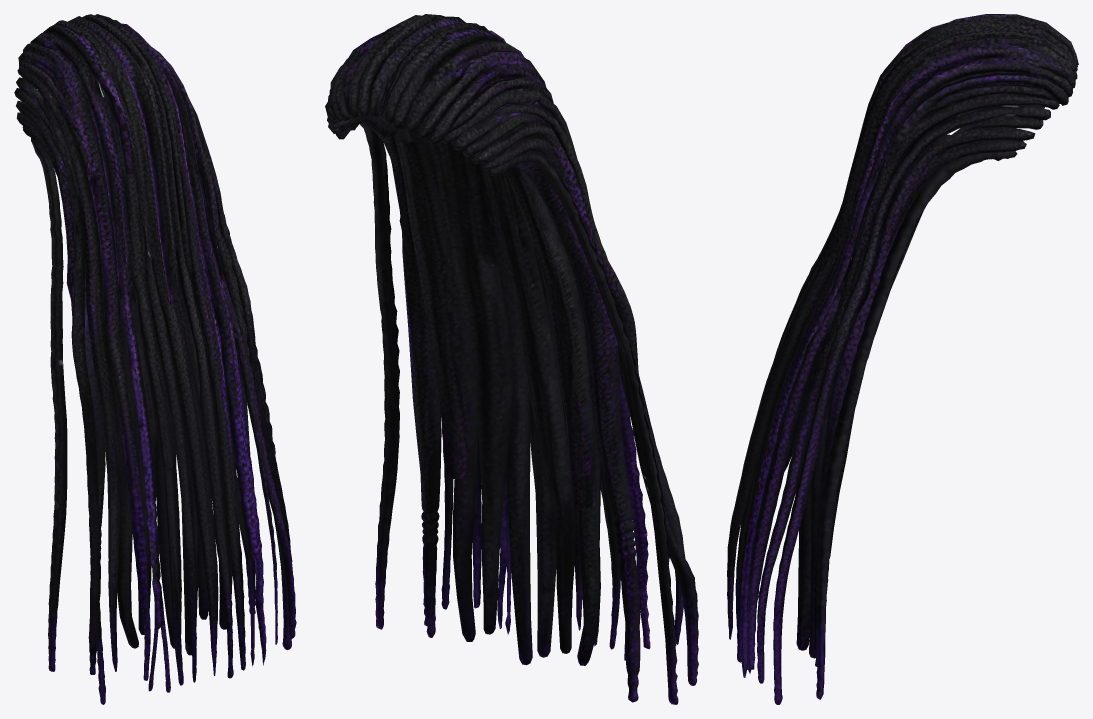
File: Neon_Hair_Braids_v01.glb
3 renders of one model, left to right at view 1: azimuth 30°, elevation 25°; view 2: azimuth 150°, elevation 25°; view 3: azimuth 270°, elevation 25°, orthographic. The views are drawn at different scales.
Visible parts, largest first — view 1: tripo_part_0, tripo_part_4, tripo_part_10, tripo_part_5, tripo_part_8, tripo_part_9, tripo_part_2, tripo_part_11; view 2: tripo_part_0, tripo_part_5, tripo_part_12, tripo_part_13, tripo_part_3, tripo_part_4, tripo_part_9, tripo_part_8, tripo_part_10, tripo_part_7; view 3: tripo_part_0, tripo_part_3, tripo_part_9, tripo_part_7.
Boxes of the visible parts, x1,y1,x2,y2 form: tripo_part_0: (14,14,296,704); tripo_part_4: (22,126,67,671); tripo_part_10: (102,258,138,648); tripo_part_5: (131,301,208,634); tripo_part_8: (132,291,176,648); tripo_part_9: (178,279,199,655); tripo_part_2: (148,578,170,692); tripo_part_11: (226,388,254,666); tripo_part_0: (325,14,698,702); tripo_part_5: (433,140,575,653); tripo_part_12: (394,128,476,479); tripo_part_13: (505,165,594,511); tripo_part_3: (335,124,399,629); tripo_part_4: (488,150,678,704); tripo_part_9: (495,251,532,665); tripo_part_8: (533,249,562,657); tripo_part_10: (577,436,601,665); tripo_part_7: (453,409,478,641); tripo_part_0: (727,14,1078,704); tripo_part_3: (816,151,1017,699); tripo_part_9: (796,105,916,650); tripo_part_7: (809,119,922,658).
Size of the model in its own units: 0.4409 by 0.9995 by 0.5059.
1 material, 1 textured.
